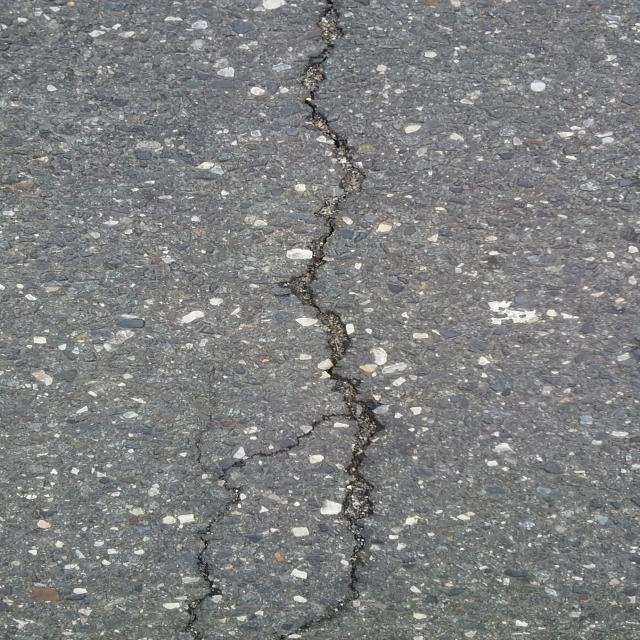Crack: (182, 0, 387, 640)
